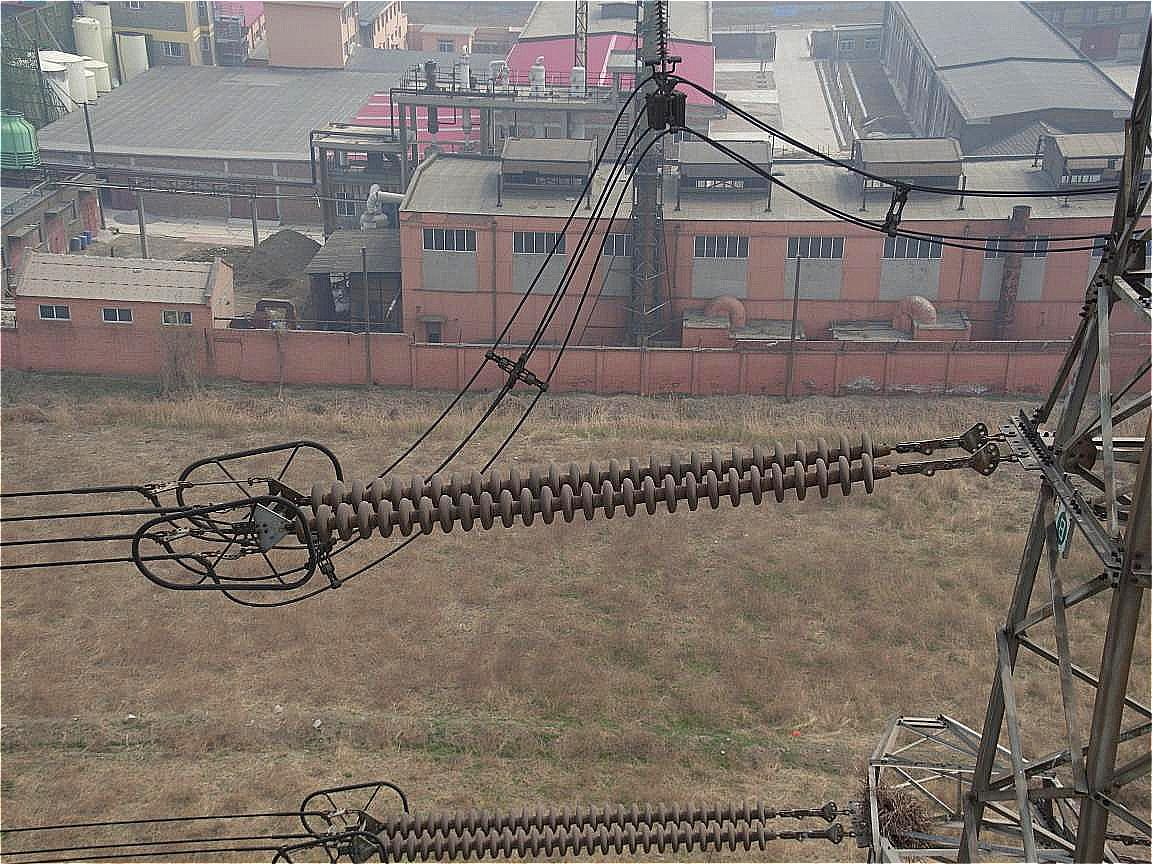insultor1: (311, 433, 874, 538), (378, 801, 767, 860)
